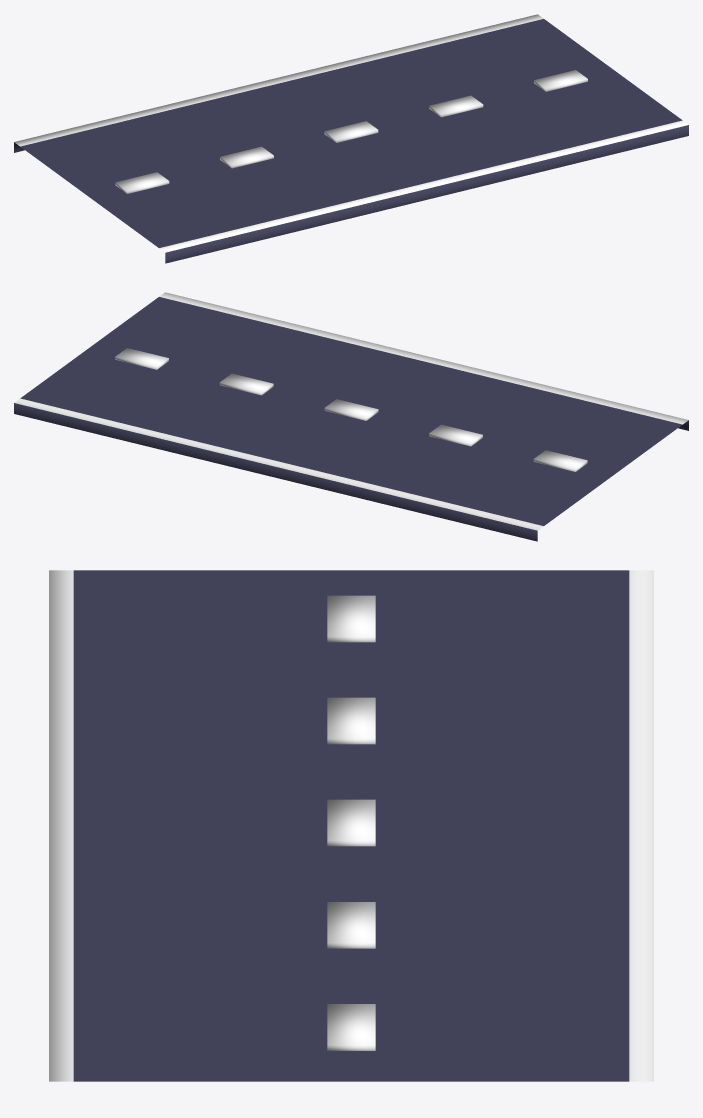
File: road.gltf
3 views of the same model, one above another, from view 1: azimuth 30°, elevation 25°; view 2: azimuth 150°, elevation 25°; view 3: azimuth 270°, elevation 25° (orthographic). The views are drawn at different scales.
Parts seen in each view (by area): view 1: Box002, Box007; view 2: Box002, Box007; view 3: Box002, Box007.
Part boxes in pixels (x1=…): Box002: x1=14, y1=14, x2=688, y2=263; Box007: x1=115, y1=70, x2=587, y2=193; Box002: x1=14, y1=292, x2=688, y2=541; Box007: x1=115, y1=348, x2=587, y2=471; Box002: x1=49, y1=570, x2=653, y2=1081; Box007: x1=327, y1=595, x2=375, y2=1050.
Bounding box in the file's own units: 254 × 6.43 × 127.
